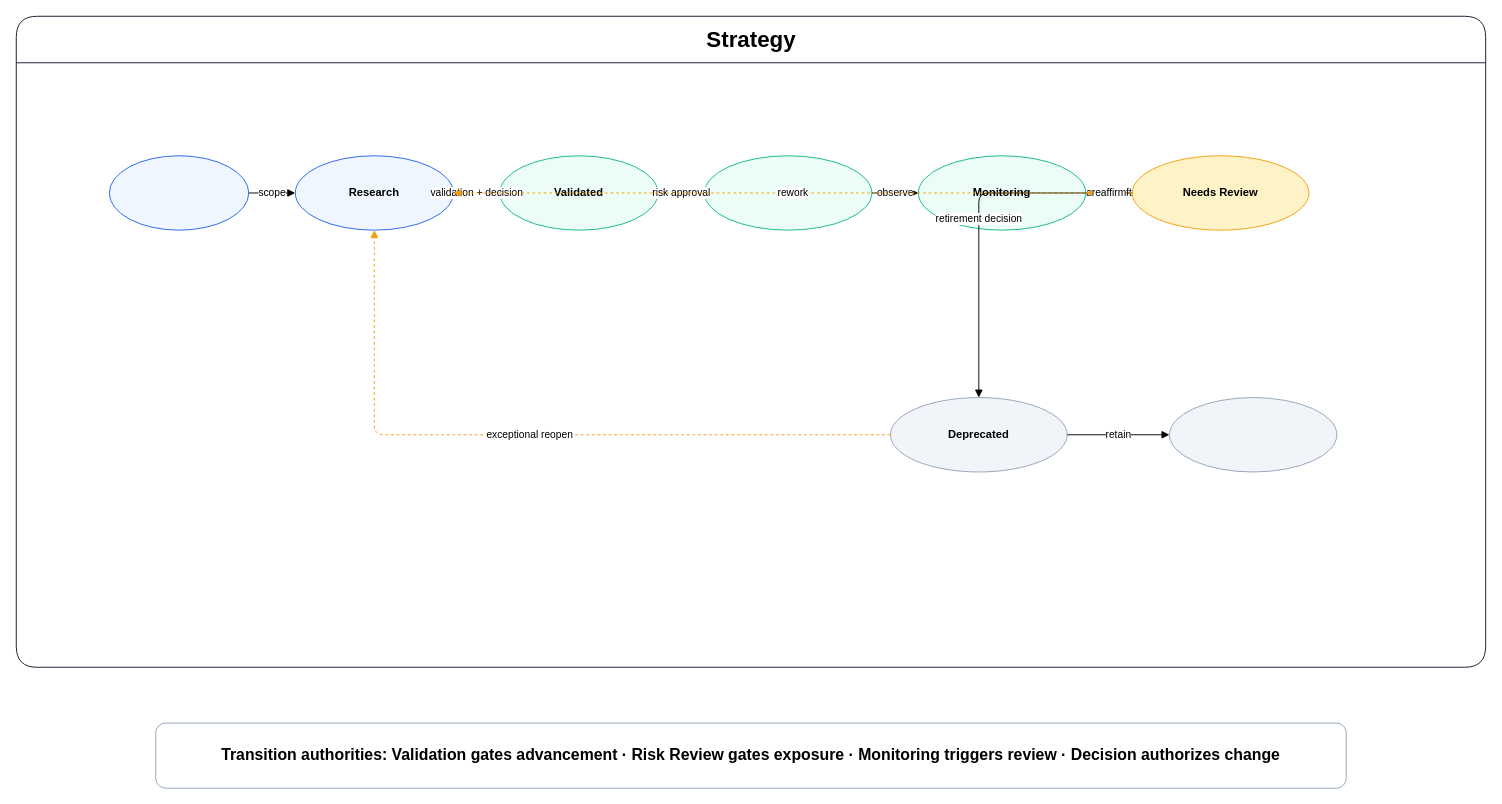
The diagram is 1502 pixels wide and 804 high, and some of its shapes have lost their labels. The centre of each missing label's shape, as x and y in pixels:
Archived: the point at 1253,434
Idea: the point at 178,192
Paper Trading: the point at 788,192
